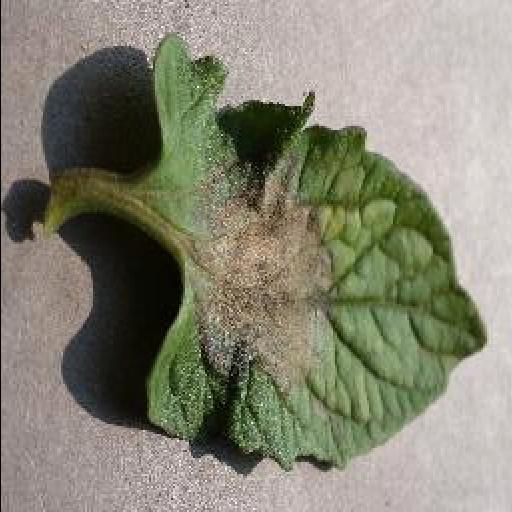disease_tomato: (146, 34, 488, 472)
